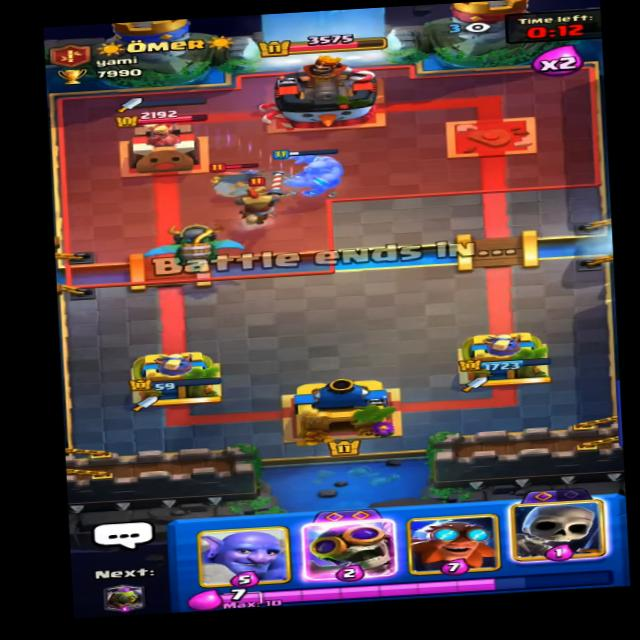fisherman: (202, 156, 278, 205)
prince: (226, 174, 287, 227)
